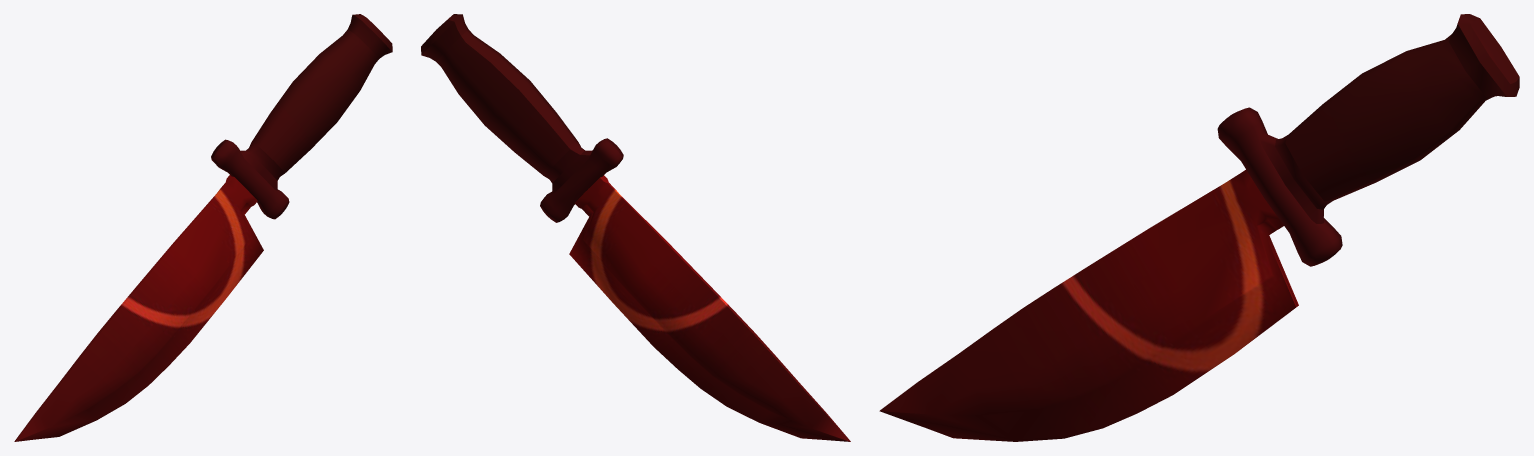
Rendered from RealKnife.fbx.
3 views of the same model, side by side, from view 1: azimuth 30°, elevation 25°; view 2: azimuth 150°, elevation 25°; view 3: azimuth 330°, elevation 25° (orthographic). The views are drawn at different scales.
Visible parts, largest first — view 1: c_real_knife_mdl_cleaner_gles; view 2: c_real_knife_mdl_cleaner_gles; view 3: c_real_knife_mdl_cleaner_gles.
Part boxes in pixels (x1,y1,x2,y2): c_real_knife_mdl_cleaner_gles: (14, 14, 392, 441); c_real_knife_mdl_cleaner_gles: (421, 14, 850, 441); c_real_knife_mdl_cleaner_gles: (879, 14, 1519, 441).
Bounding box in the file's own units: 3854 × 3164 × 378.
2 materials, 2 textured.
